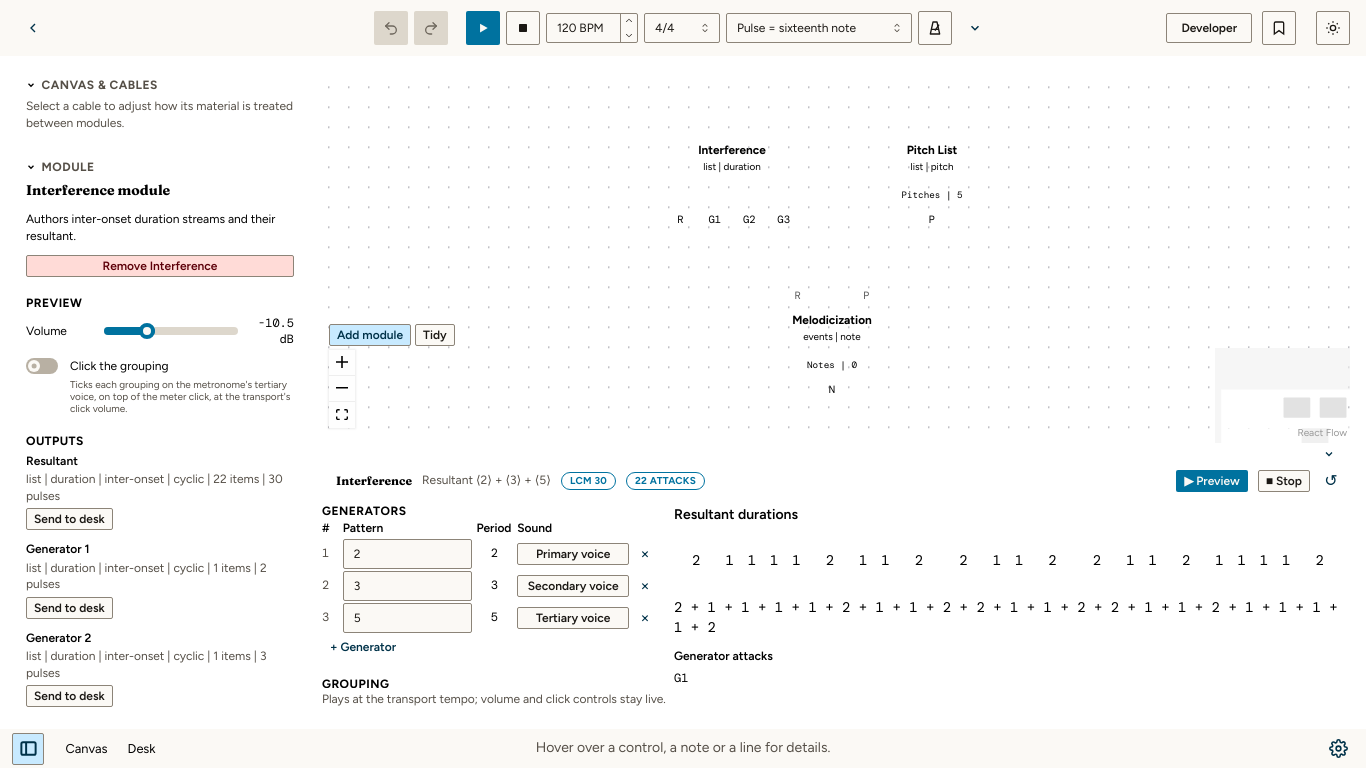
the bottom panel targets a module or a clip › still shows a selected module editor, and the clip slot stays empty
Click the button "Pitch List list | pitch Pitches | 5". click: [932, 172]
box: top-left (858, 134), bottom-right (1006, 211)
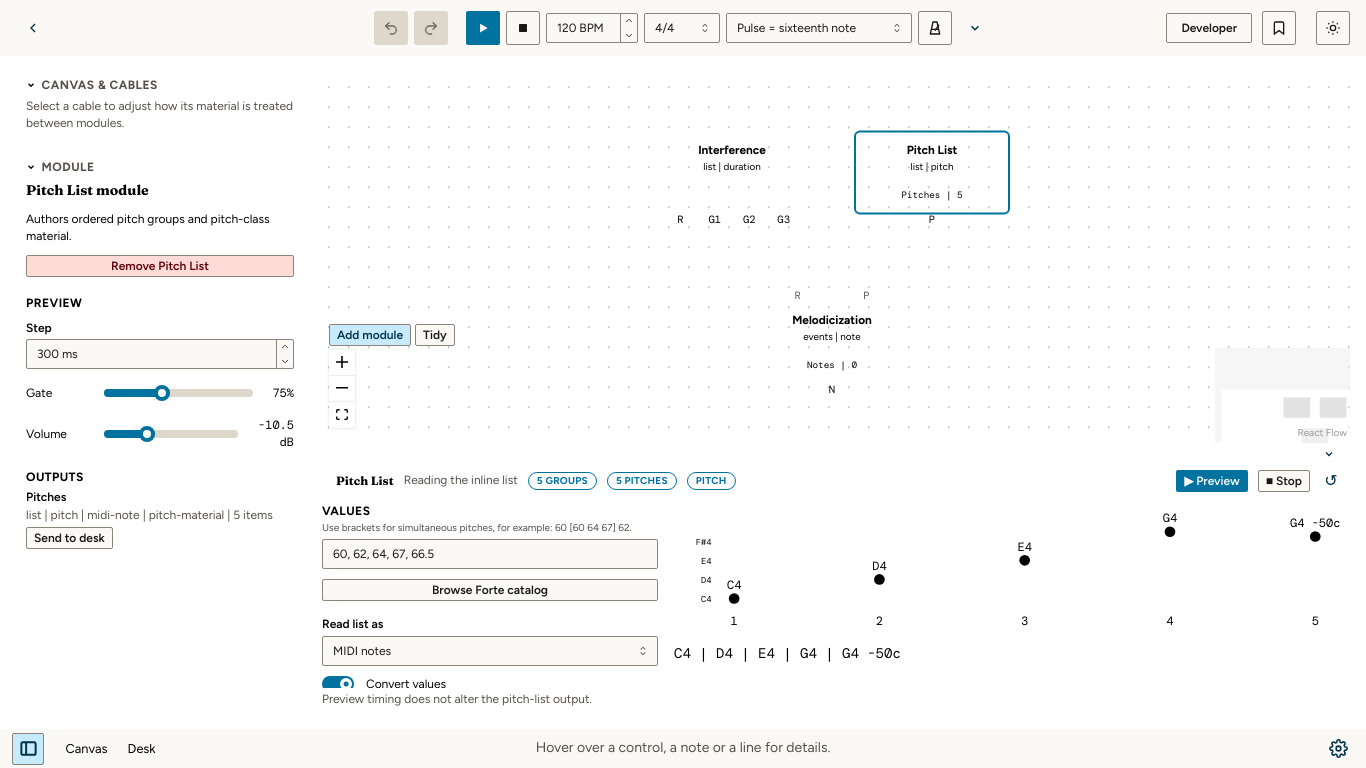
Expected: the field named "Pitch values" is shown, top-left (322, 539), bottom-right (658, 569)
